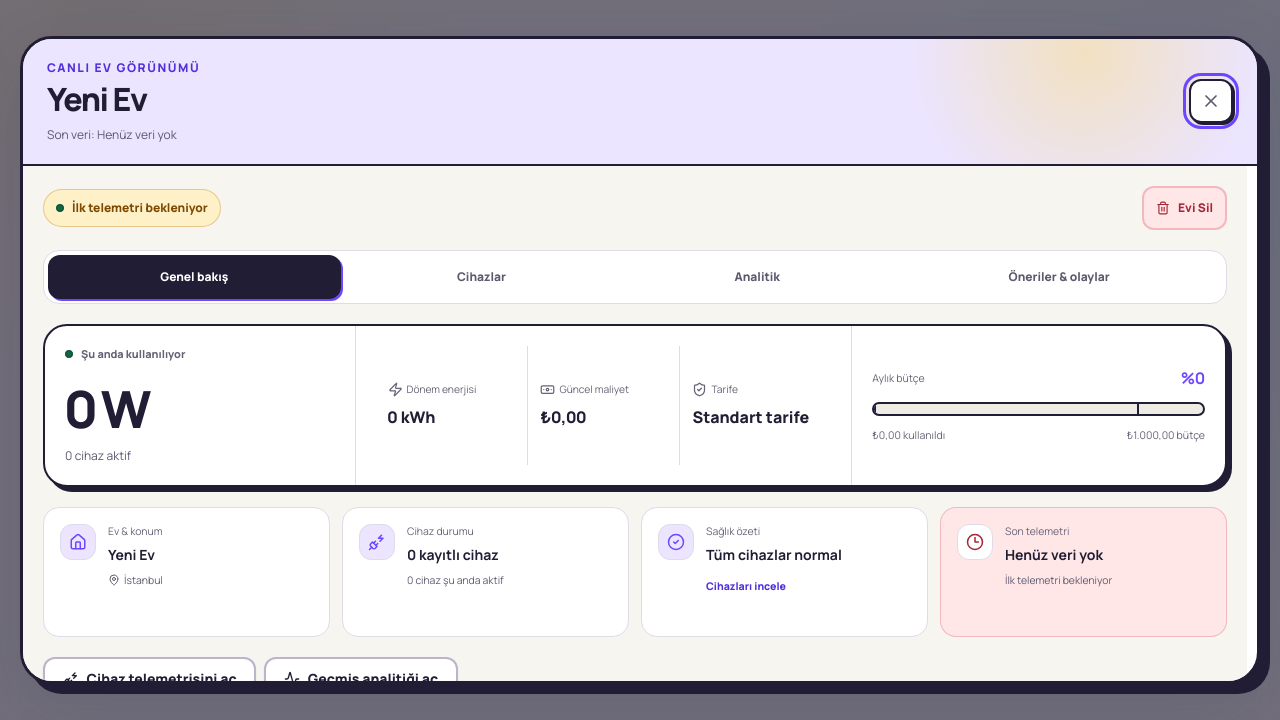
Test case: existing-home appliance registration › blocks invalid values before making a request
Click the tab "Cihazlar" at (481,277), box left=345, top=255, right=618, bottom=299
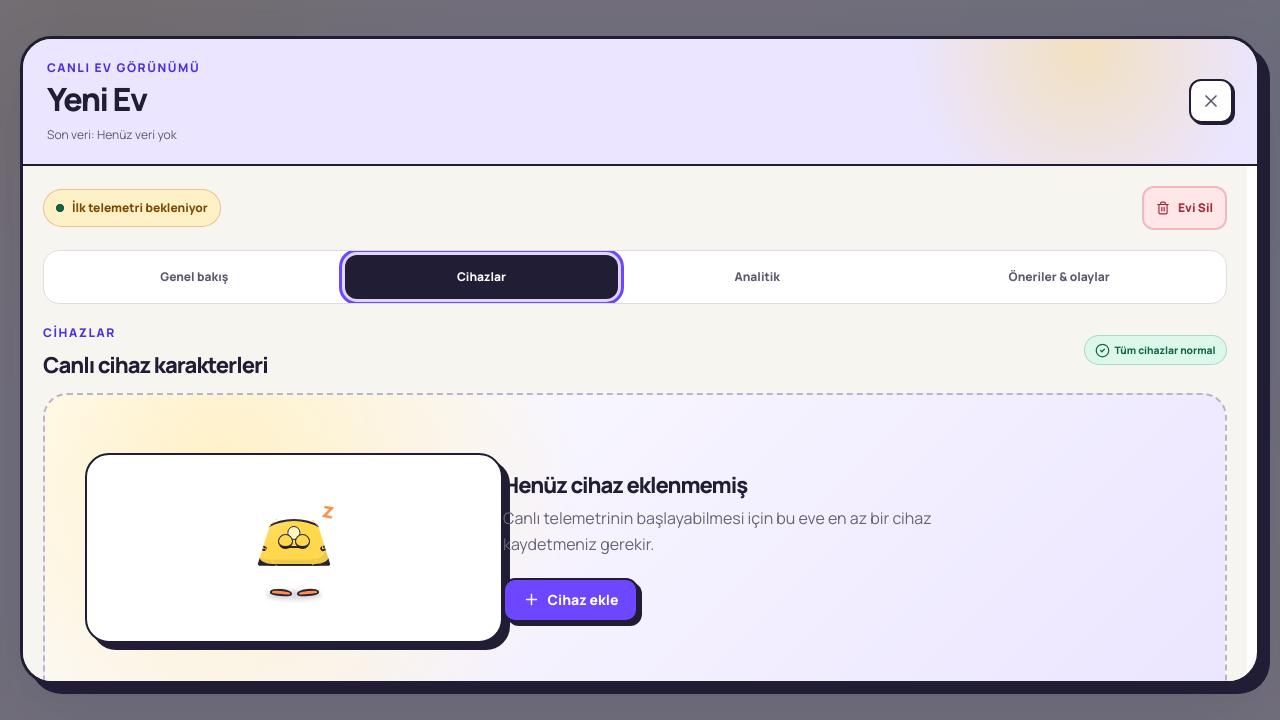
Click the button "Cihaz ekle" at (570,600), box left=503, top=578, right=638, bottom=622
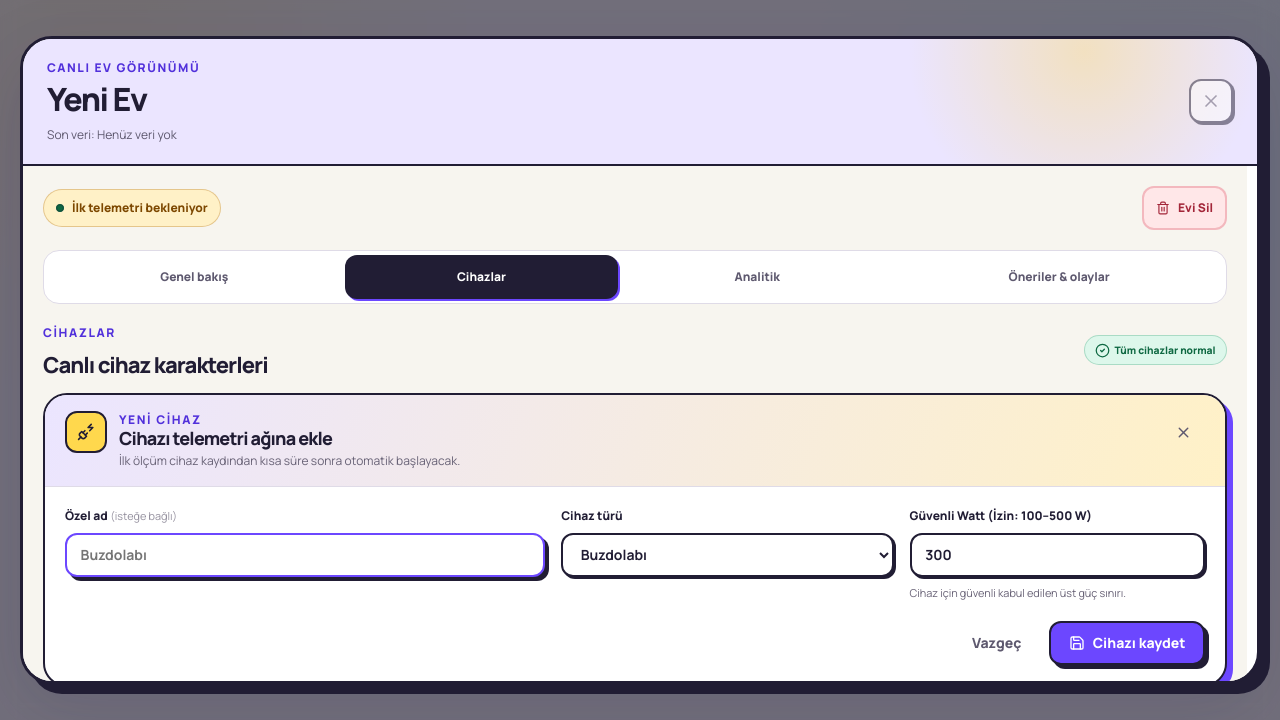
Type "geçersiz" into the field labelled "Güvenli Watt" at (1057,555), box left=910, top=533, right=1205, bottom=577
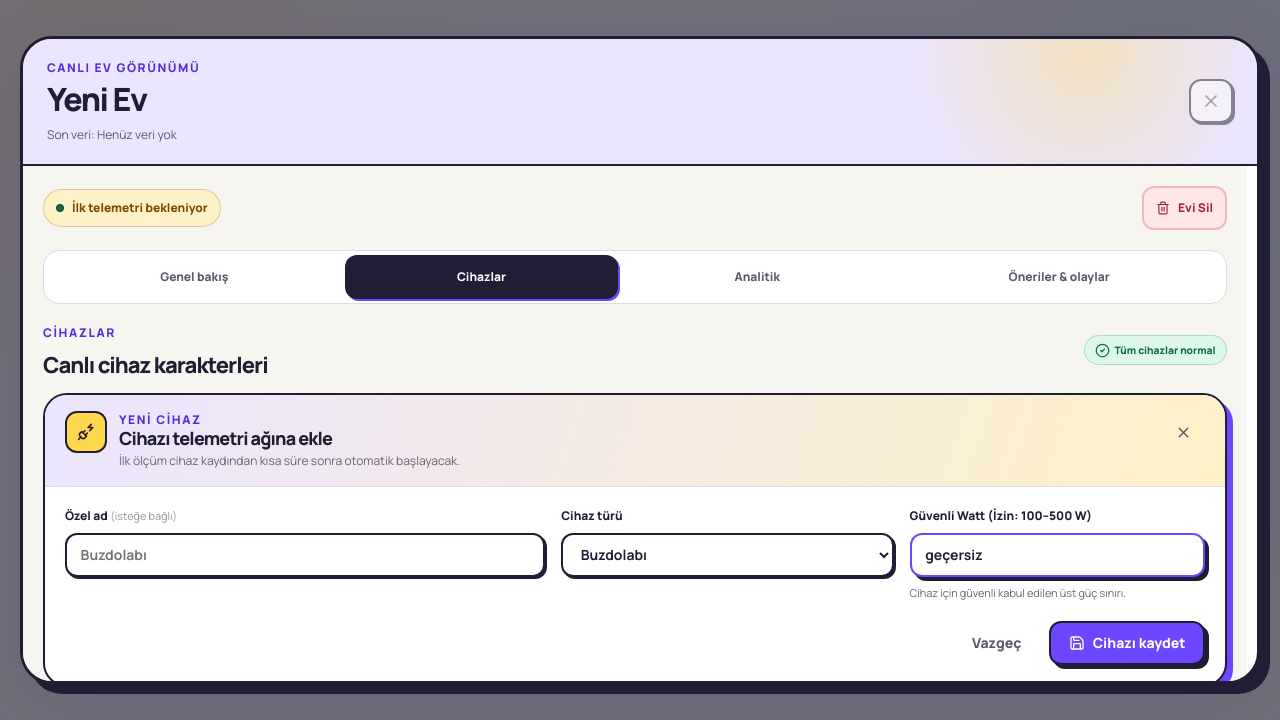
Click the button "Cihazı kaydet" at (1127,643), box left=1049, top=621, right=1205, bottom=665
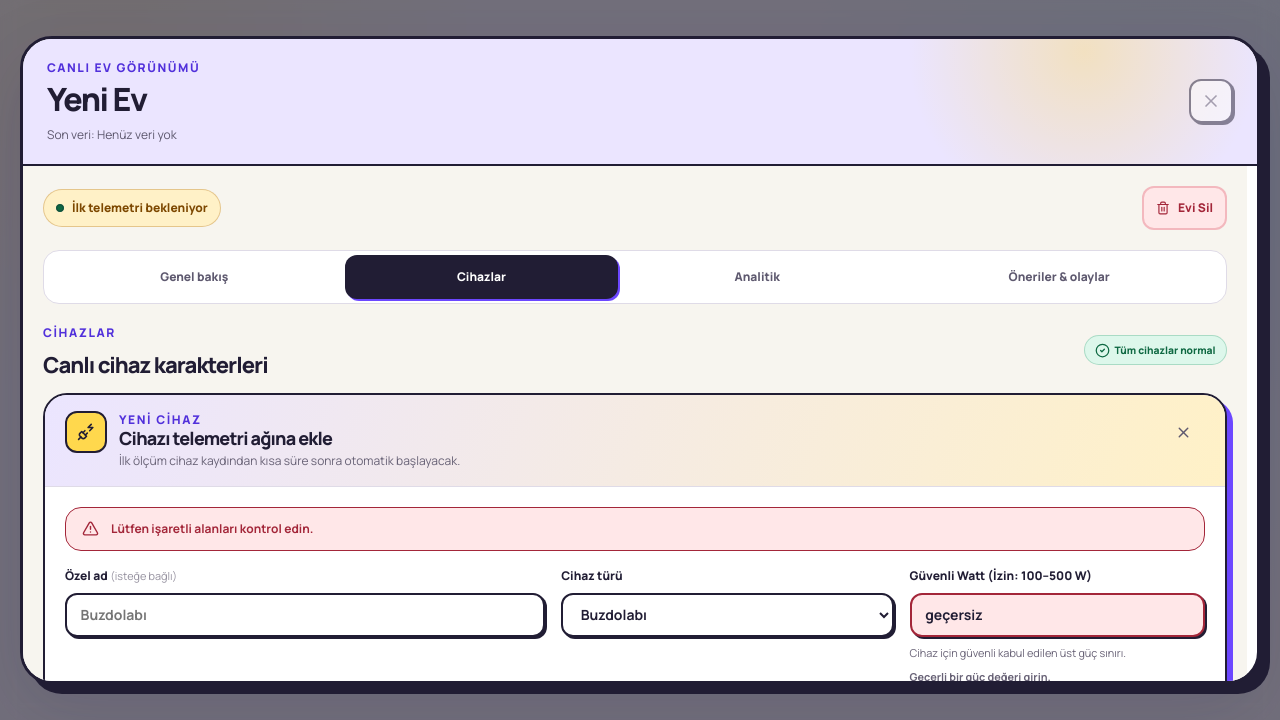
Check: the text "Geçerli bir güç değeri girin." is shown, box left=910, top=669, right=1051, bottom=681
